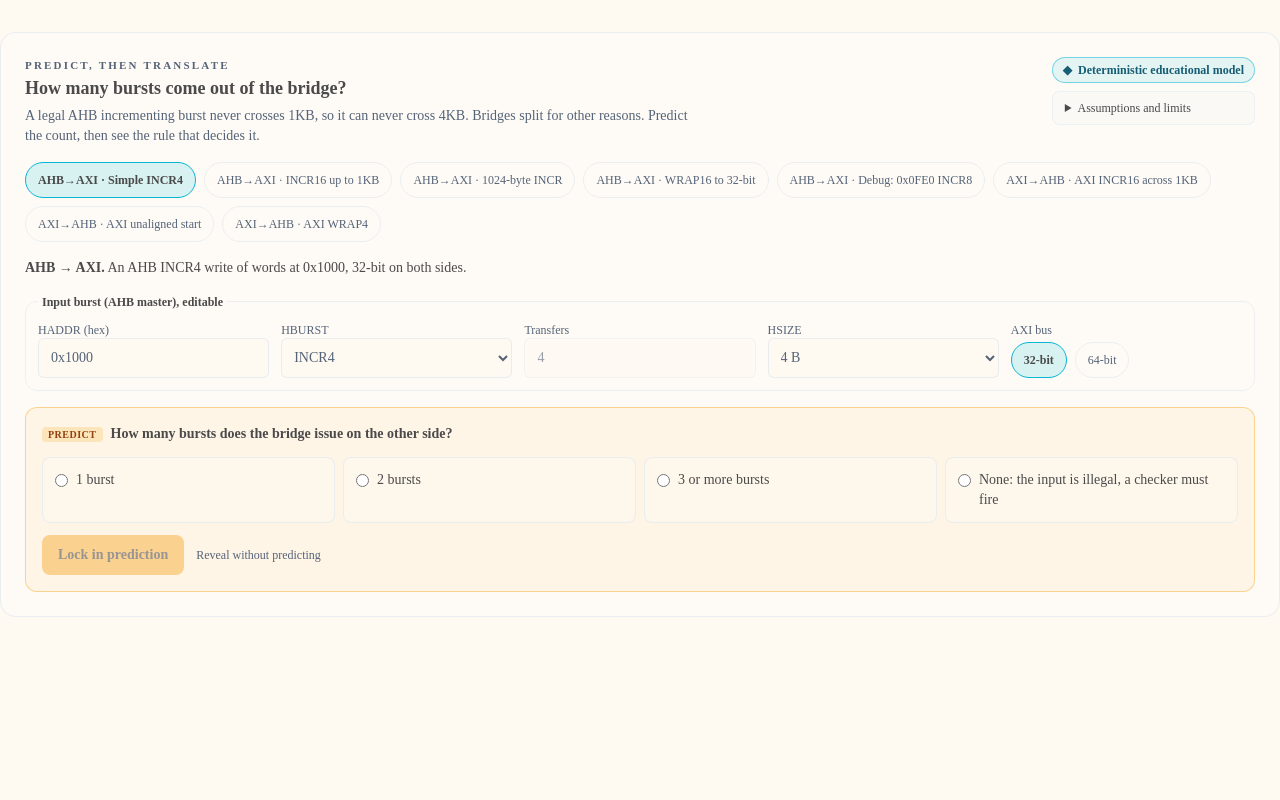
Scenario: BridgeTranslationExplorer › downsizing a WRAP16 of doublewords needs two INCR bursts
Step 1. Click the button with test id "scenario-btn-3" → (676,180), box [583,162,768,198]
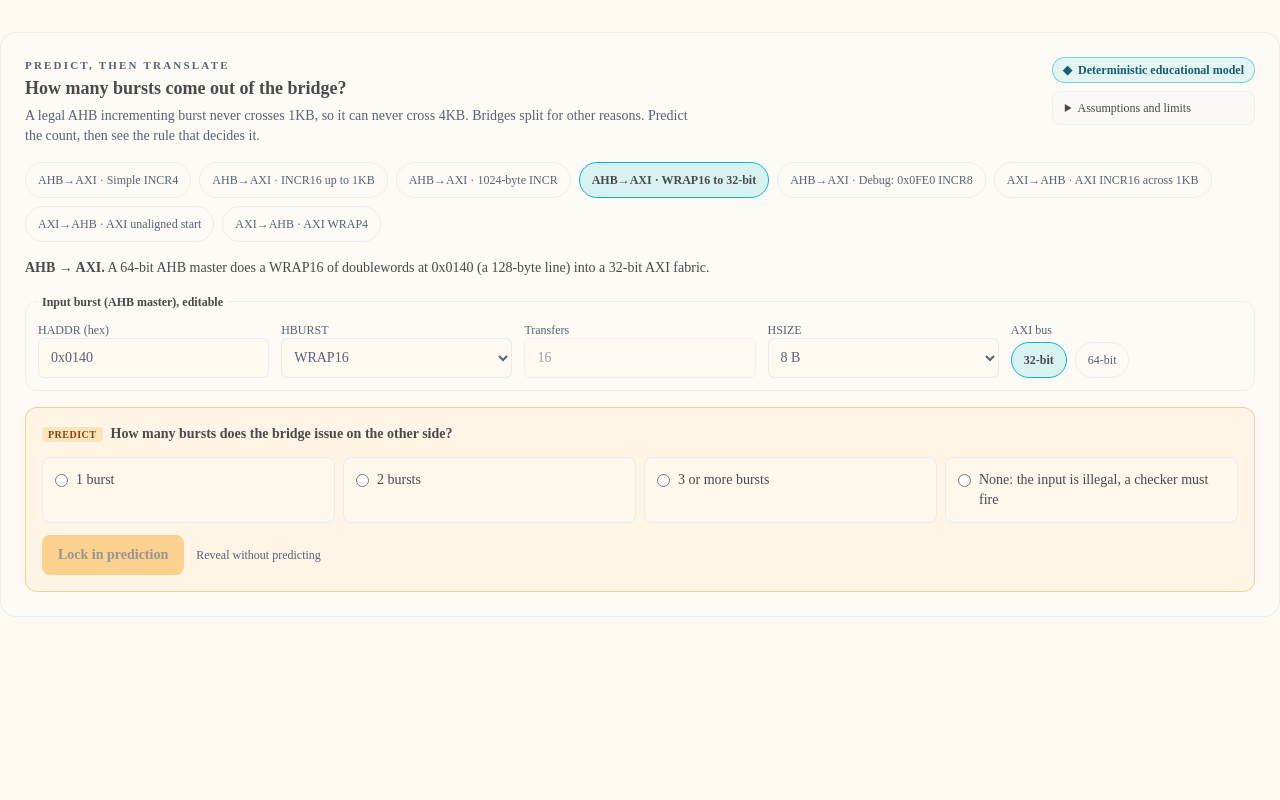
Step 2. Click the radio button labelled "2 bursts" → (362,480), box [356,474,369,486]
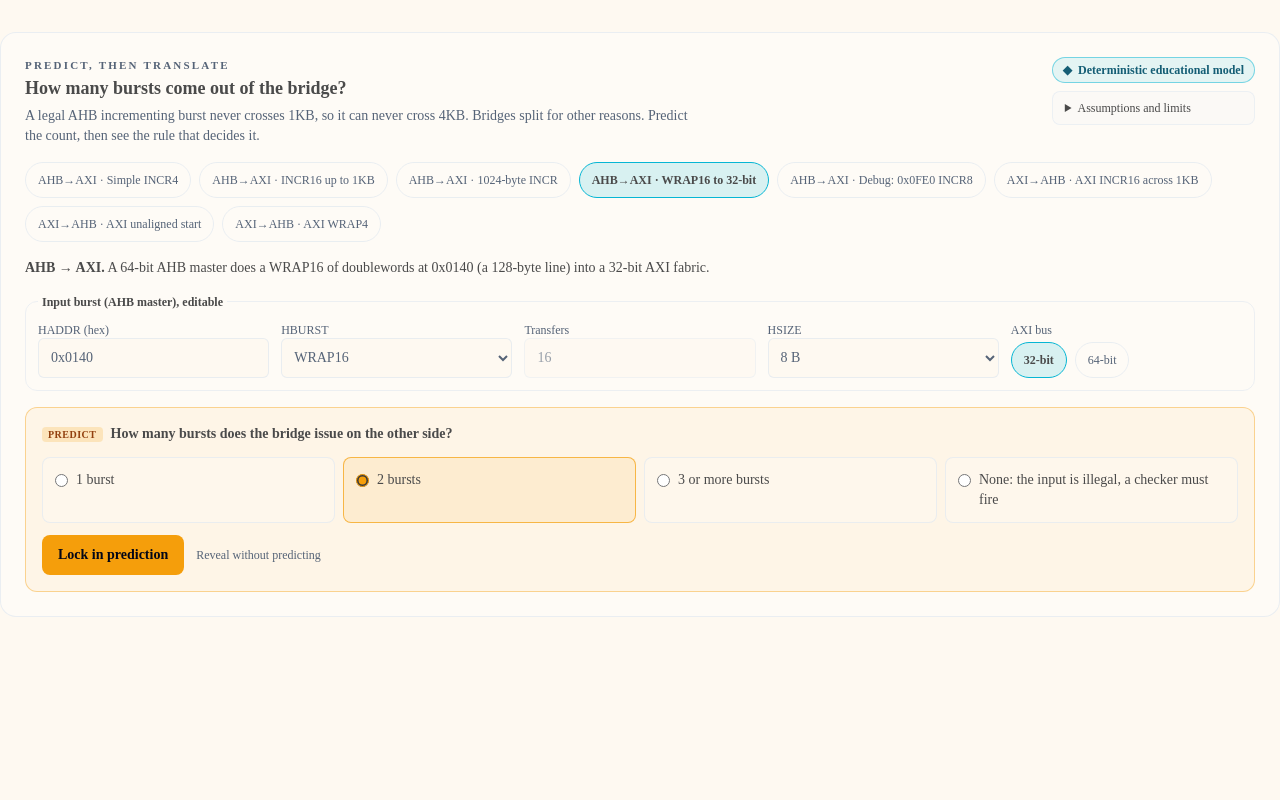
Step 3. Click the button "Lock in prediction" → (113,554), box [42,534,184,574]
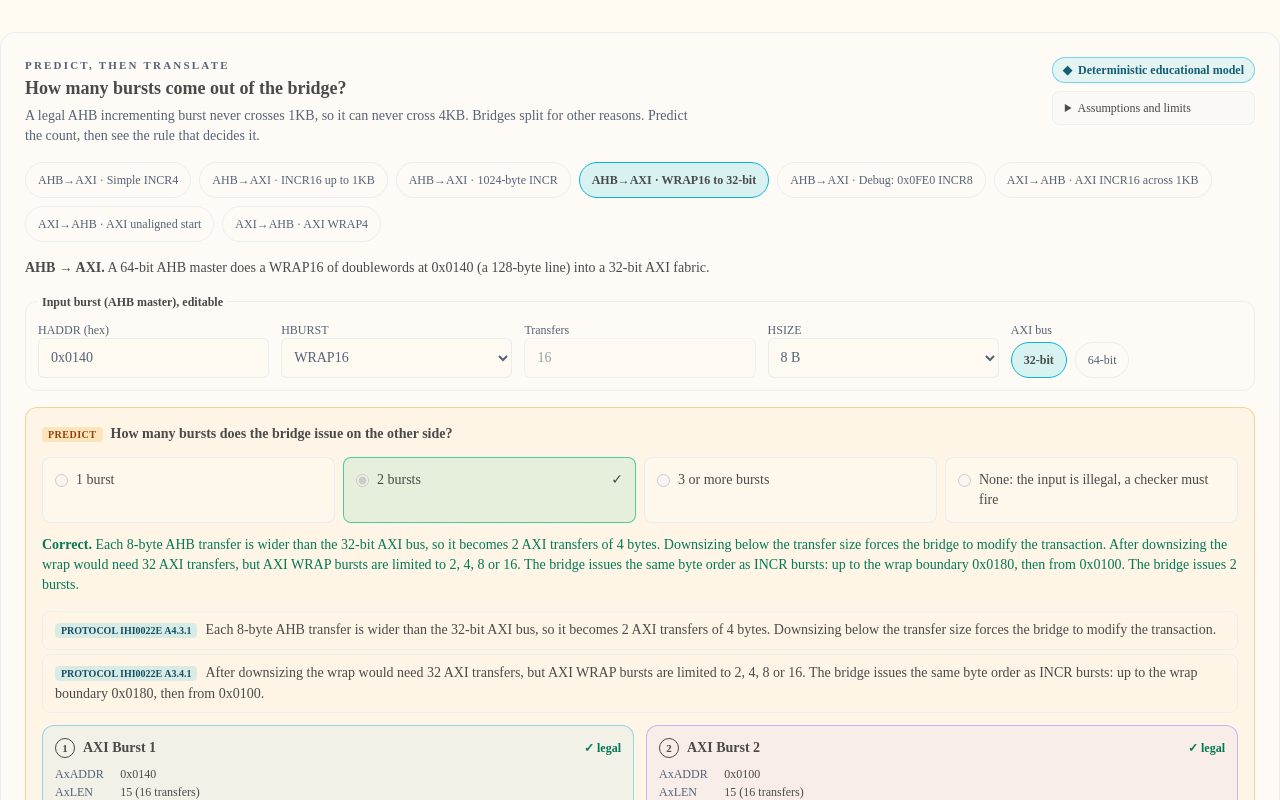
Expected: the text "Correct." is shown, [42,536,95,552]
Expected: the text "limited to 2, 4, 8 or 16" is shown, [42,536,1237,592]
